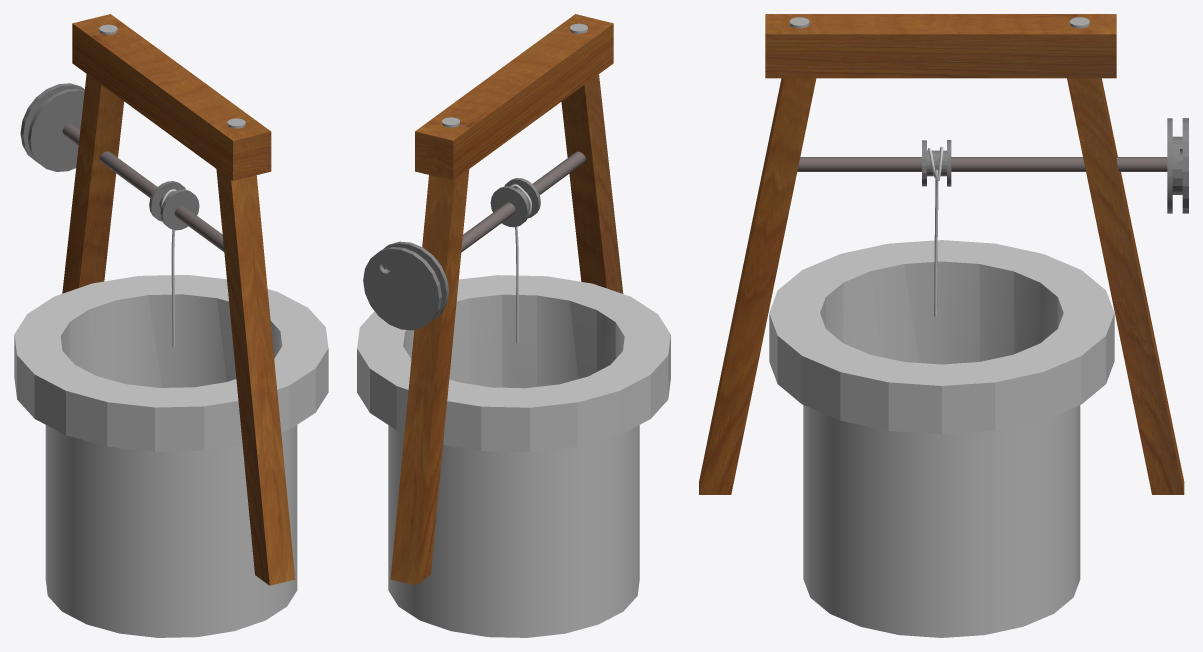
File: PuitWTexture.fbx
3 views of the same model, side by side, from view 1: azimuth 30°, elevation 25°; view 2: azimuth 150°, elevation 25°; view 3: azimuth 270°, elevation 25° (orthographic). The views are drawn at different scales.
Parts seen in each view (by area): view 1: puit, pilier1, toit, pilier, polySurface1, boisPoursceau, pCylinder11; view 2: puit, pilier, toit, pilier1, polySurface1, boisPoursceau, pCylinder11; view 3: puit, toit, pilier1, pilier, boisPoursceau, polySurface1, pCylinder11.
Part boxes in pixels (x1=…): puit: x1=14, y1=275, x2=328, y2=637; pilier1: x1=216, y1=169, x2=295, y2=585; toit: x1=72, y1=14, x2=271, y2=180; pilier: x1=62, y1=74, x2=124, y2=293; polySurface1: x1=20, y1=83, x2=84, y2=171; boisPoursceau: x1=62, y1=123, x2=224, y2=251; pCylinder11: x1=149, y1=181, x2=199, y2=230; puit: x1=357, y1=275, x2=670, y2=637; pilier: x1=390, y1=169, x2=469, y2=585; toit: x1=415, y1=14, x2=613, y2=180; pilier1: x1=561, y1=74, x2=623, y2=293; polySurface1: x1=363, y1=241, x2=448, y2=330; boisPoursceau: x1=436, y1=151, x2=585, y2=261; pCylinder11: x1=490, y1=178, x2=540, y2=227; puit: x1=769, y1=240, x2=1114, y2=637; toit: x1=765, y1=14, x2=1116, y2=78; pilier1: x1=699, y1=78, x2=816, y2=494; pilier: x1=1067, y1=78, x2=1184, y2=494; boisPoursceau: x1=797, y1=157, x2=1167, y2=171; polySurface1: x1=1167, y1=118, x2=1188, y2=213; pCylinder11: x1=922, y1=140, x2=951, y2=186.
Bounding box in the file's own units: 4.49 × 8.01 × 6.37.
